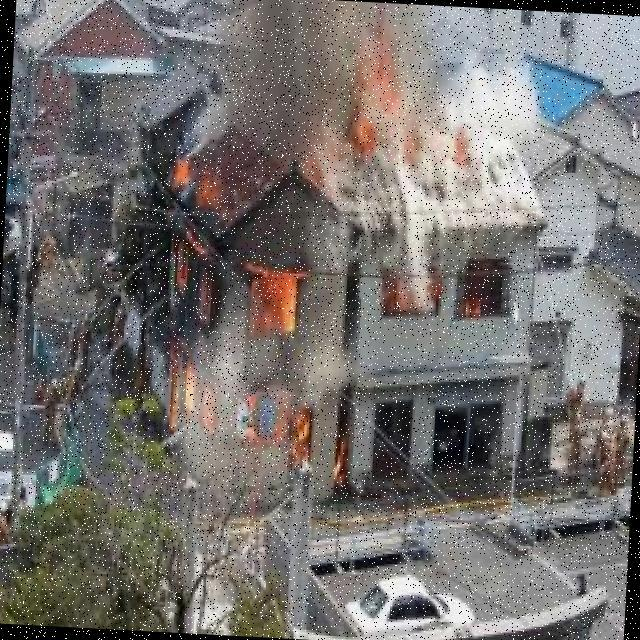Fire: (154, 136, 370, 496), (354, 41, 459, 148)
